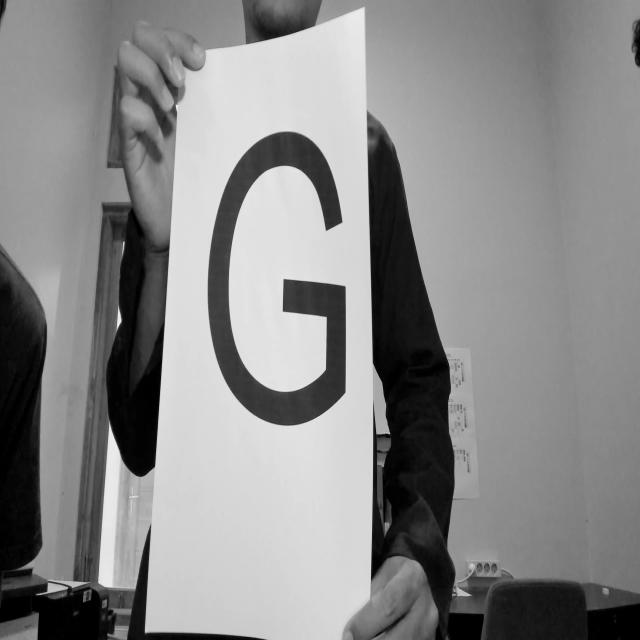g: (197, 111, 360, 439)
